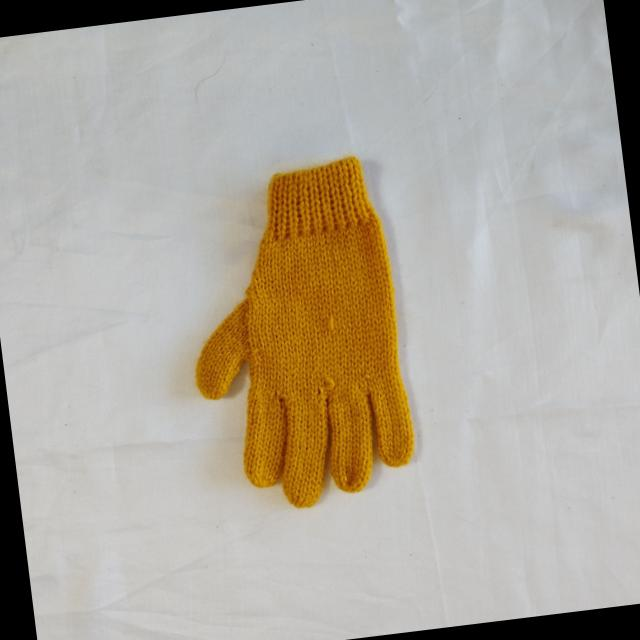Guante: (170, 150, 422, 520)
